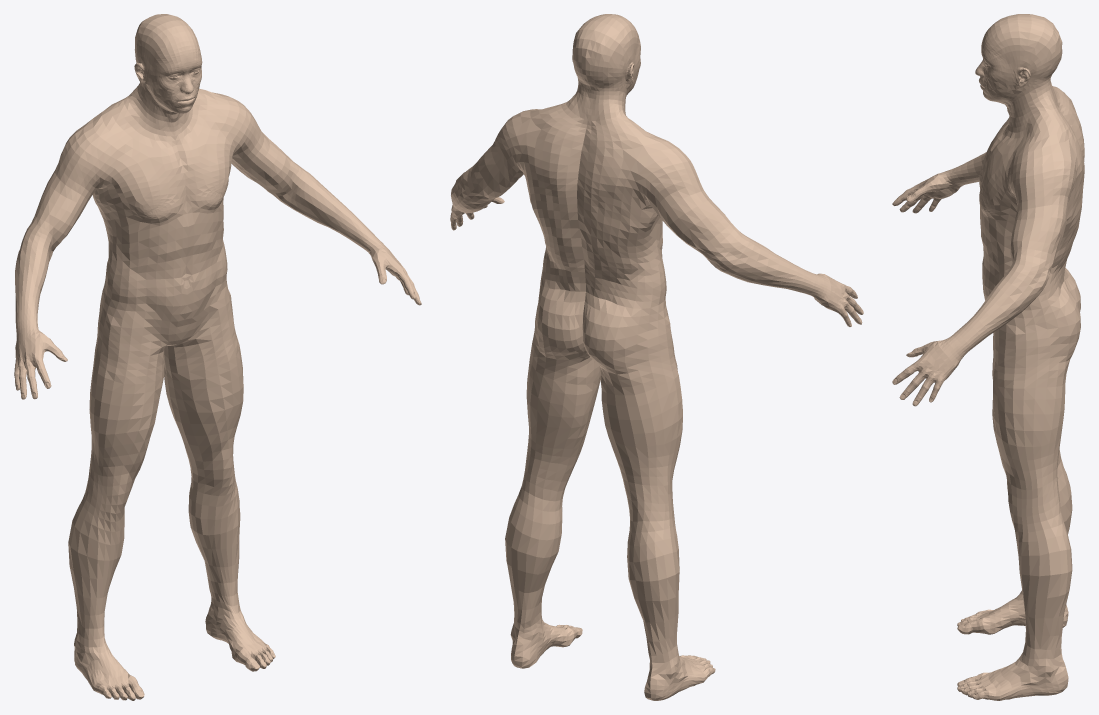
File: male-mature-heavy-high.glb
3 renders of one model, left to right at view 1: azimuth 30°, elevation 25°; view 2: azimuth 150°, elevation 25°; view 3: azimuth 270°, elevation 25°, orthographic.
Parts seen in each view (by area): view 1: world; view 2: world; view 3: world.
Boxes of the visible parts, x1,y1,x2,y2 form: world: [14, 14, 421, 700]; world: [450, 14, 863, 700]; world: [892, 14, 1084, 700].
Bounding box in the file's own units: 1.27 × 1.97 × 0.533.
